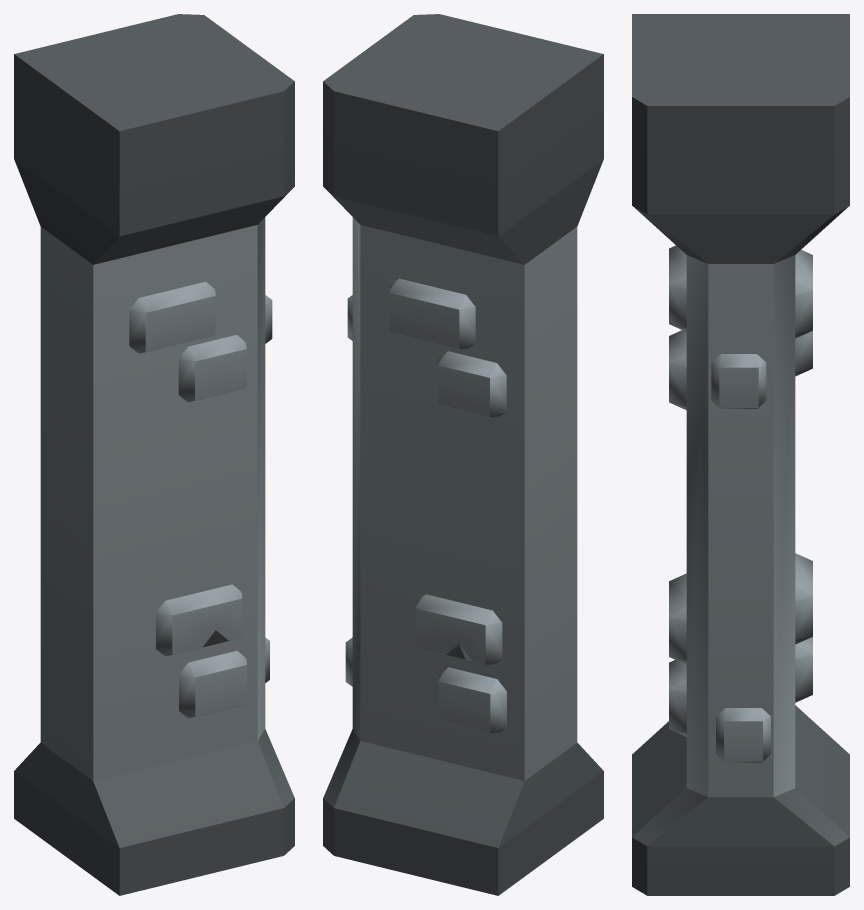
The model's file is b_donjon_mur_bout.glb.
3 views of the same model, side by side, from view 1: azimuth 30°, elevation 25°; view 2: azimuth 150°, elevation 25°; view 3: azimuth 270°, elevation 25° (orthographic). The views are drawn at different scales.
Visible parts, largest first — view 1: b_donjon_mur_bout; view 2: b_donjon_mur_bout; view 3: b_donjon_mur_bout.
Boxes of the visible parts, x1=… form: b_donjon_mur_bout: x1=14, y1=14, x2=294, y2=895; b_donjon_mur_bout: x1=323, y1=14, x2=603, y2=895; b_donjon_mur_bout: x1=632, y1=14, x2=849, y2=895.
Bounding box in the file's own units: 1.07 × 4 × 1.
1 material, 1 textured.
